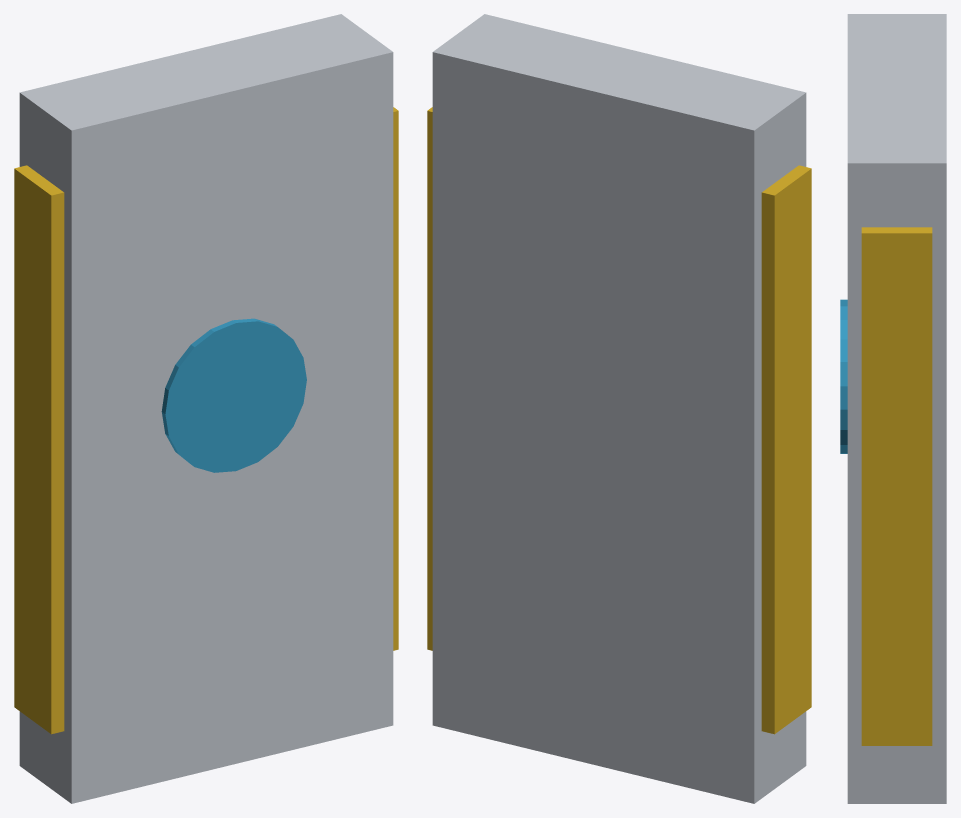
File: airlock_door.obj
The picture shows the model from 3 angles, left to right: view 1: azimuth 30°, elevation 25°; view 2: azimuth 150°, elevation 25°; view 3: azimuth 270°, elevation 25°; orthographic projection. The views are drawn at different scales.
Parts seen in each view (by area): view 1: airlock_door; view 2: airlock_door; view 3: airlock_door.
Part boxes in pixels (x1=…): airlock_door: x1=14, y1=14, x2=398, y2=803; airlock_door: x1=427, y1=14, x2=811, y2=803; airlock_door: x1=840, y1=14, x2=946, y2=803.
Bounding box in the file's own units: 1.08 × 2 × 0.3.
